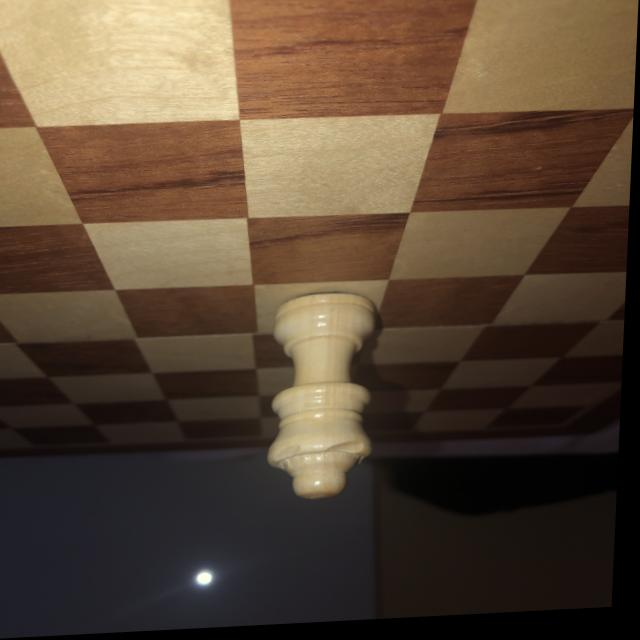white_queen: (262, 291, 388, 506)
